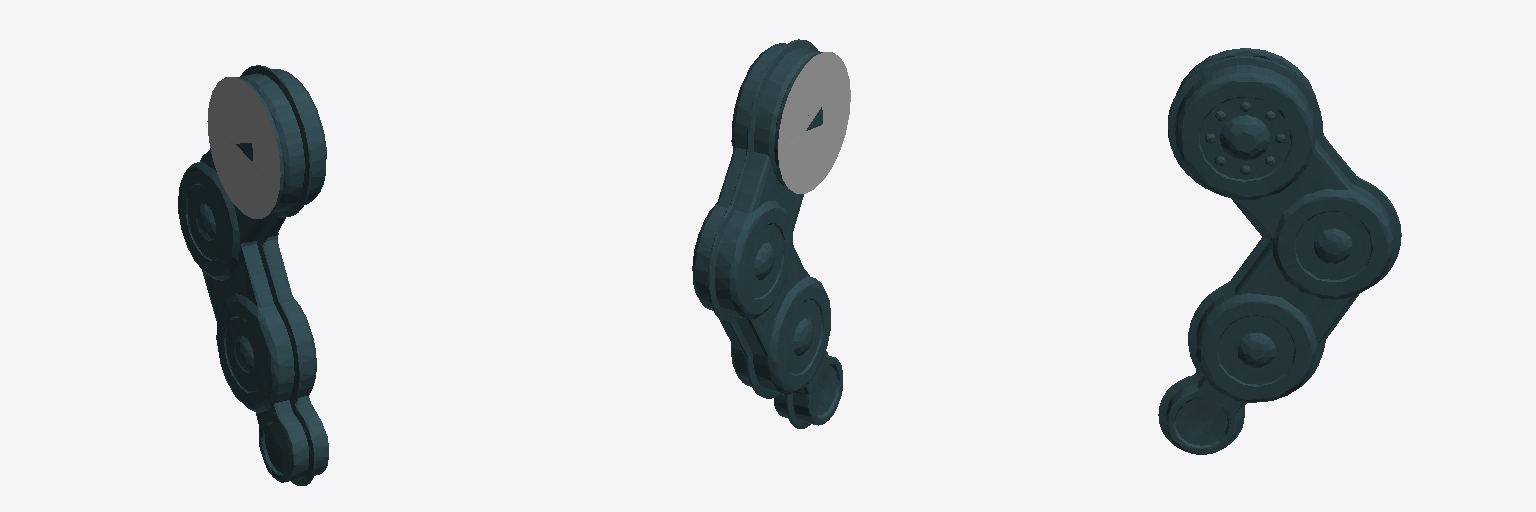
3 views of the same model, side by side, from view 1: azimuth 30°, elevation 25°; view 2: azimuth 150°, elevation 25°; view 3: azimuth 270°, elevation 25° (orthographic).
Parts seen in each view (by area): view 1: brazo_der_11696_robot_v1_L3.002; view 2: brazo_der_11696_robot_v1_L3.002; view 3: brazo_der_11696_robot_v1_L3.002.
Boxes of the visible parts, x1,y1,x2,y2 form: brazo_der_11696_robot_v1_L3.002: [178, 65, 328, 485]; brazo_der_11696_robot_v1_L3.002: [692, 39, 850, 428]; brazo_der_11696_robot_v1_L3.002: [1158, 48, 1401, 454].
Bounding box in the file's own units: 0.021 × 0.1368 × 0.0761.
2 materials, 1 textured.